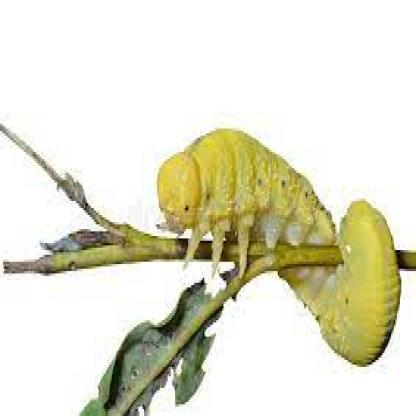sawfly: (152, 120, 404, 368)
